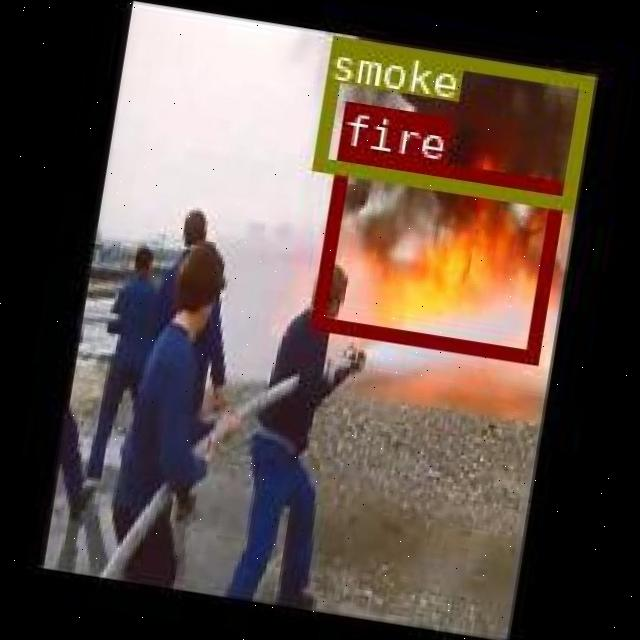fire: (309, 144, 565, 362)
smoke: (312, 34, 592, 208)
